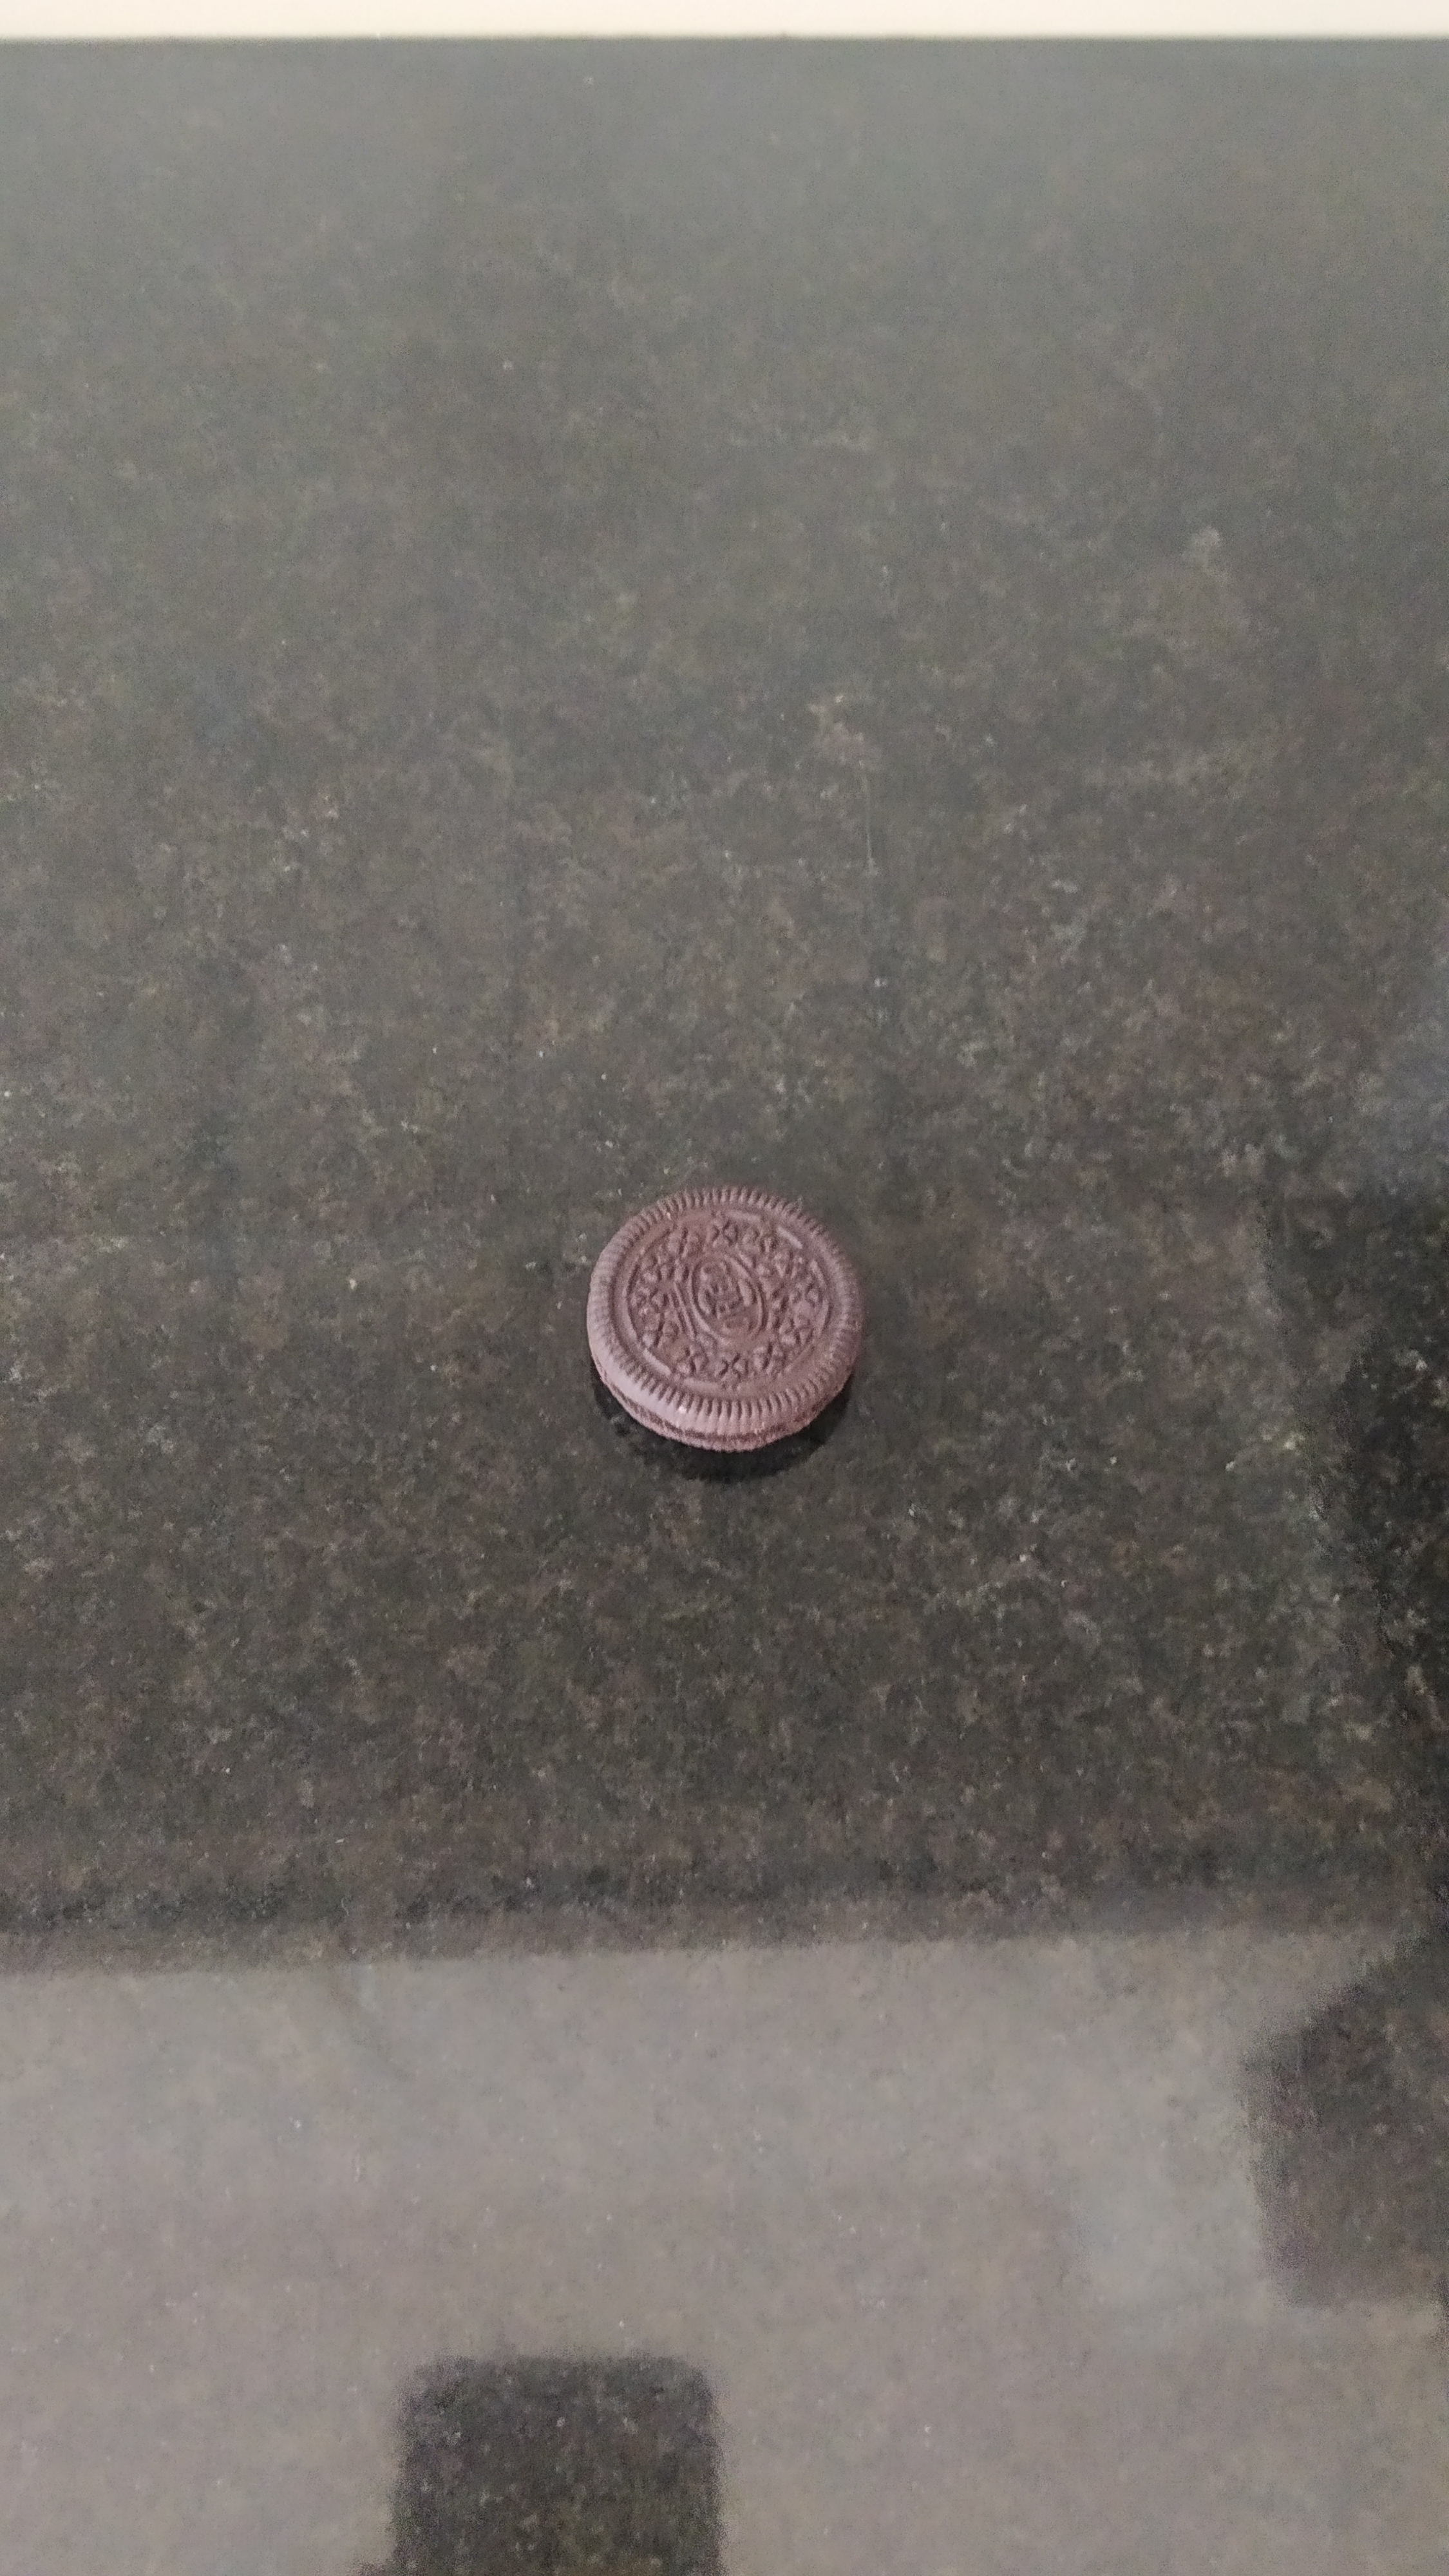oreo: (587, 1184, 865, 1453)
